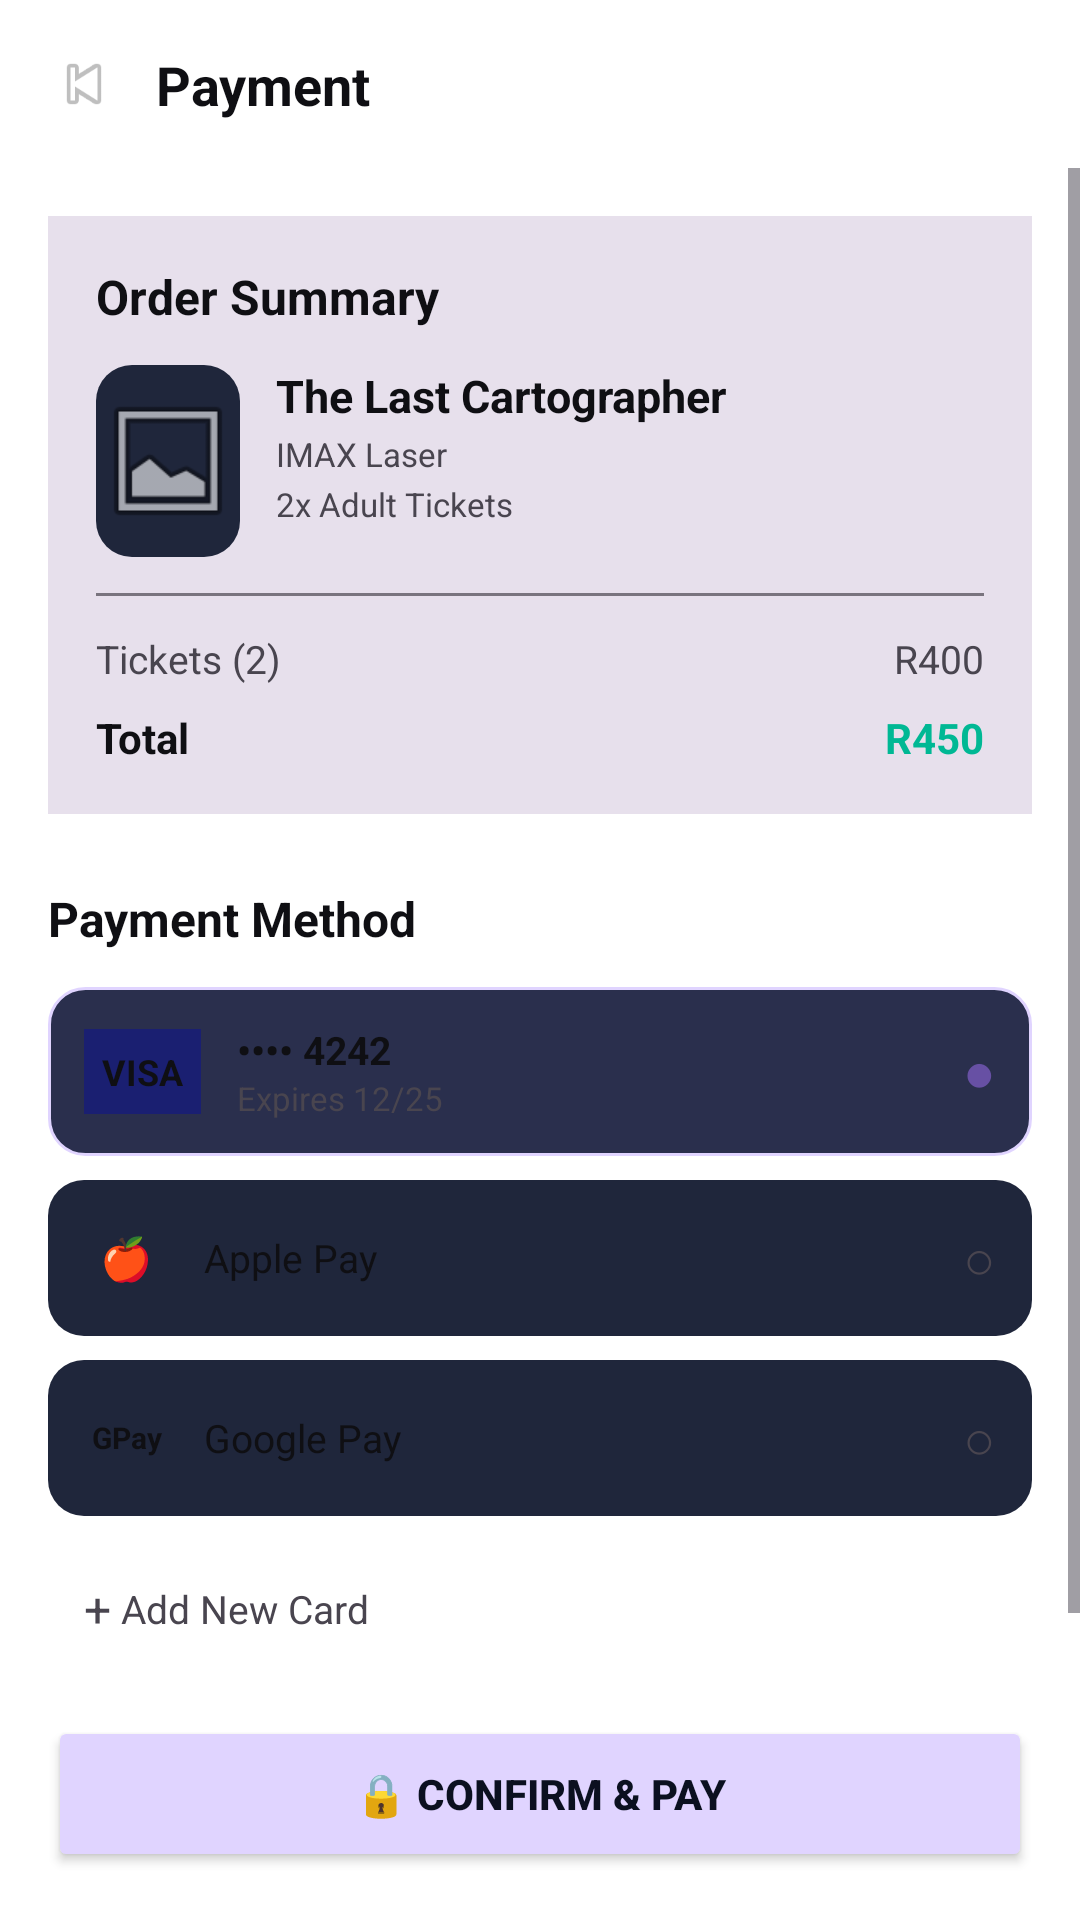

Point at icon controls on the screen. Image size 1080 × 1920, points as (x=x, y=y).
gallery: (x=168, y=461)
previous: (x=84, y=84)
